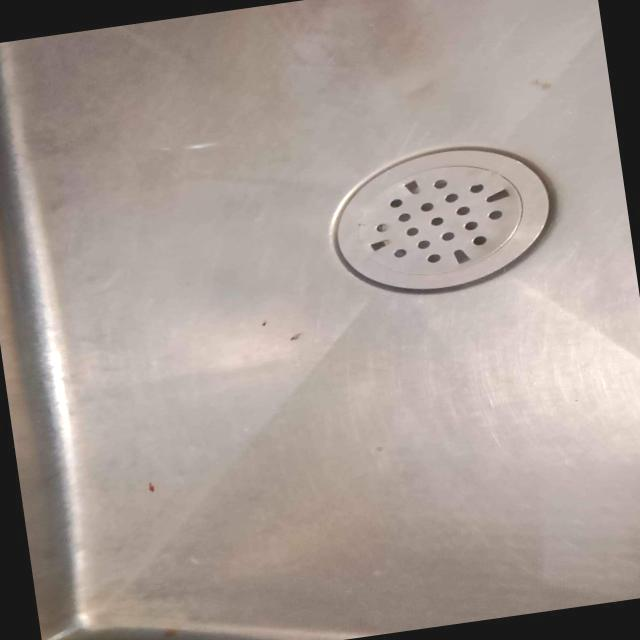General: (1, 1, 637, 637)
Sharps: (328, 144, 551, 294)
